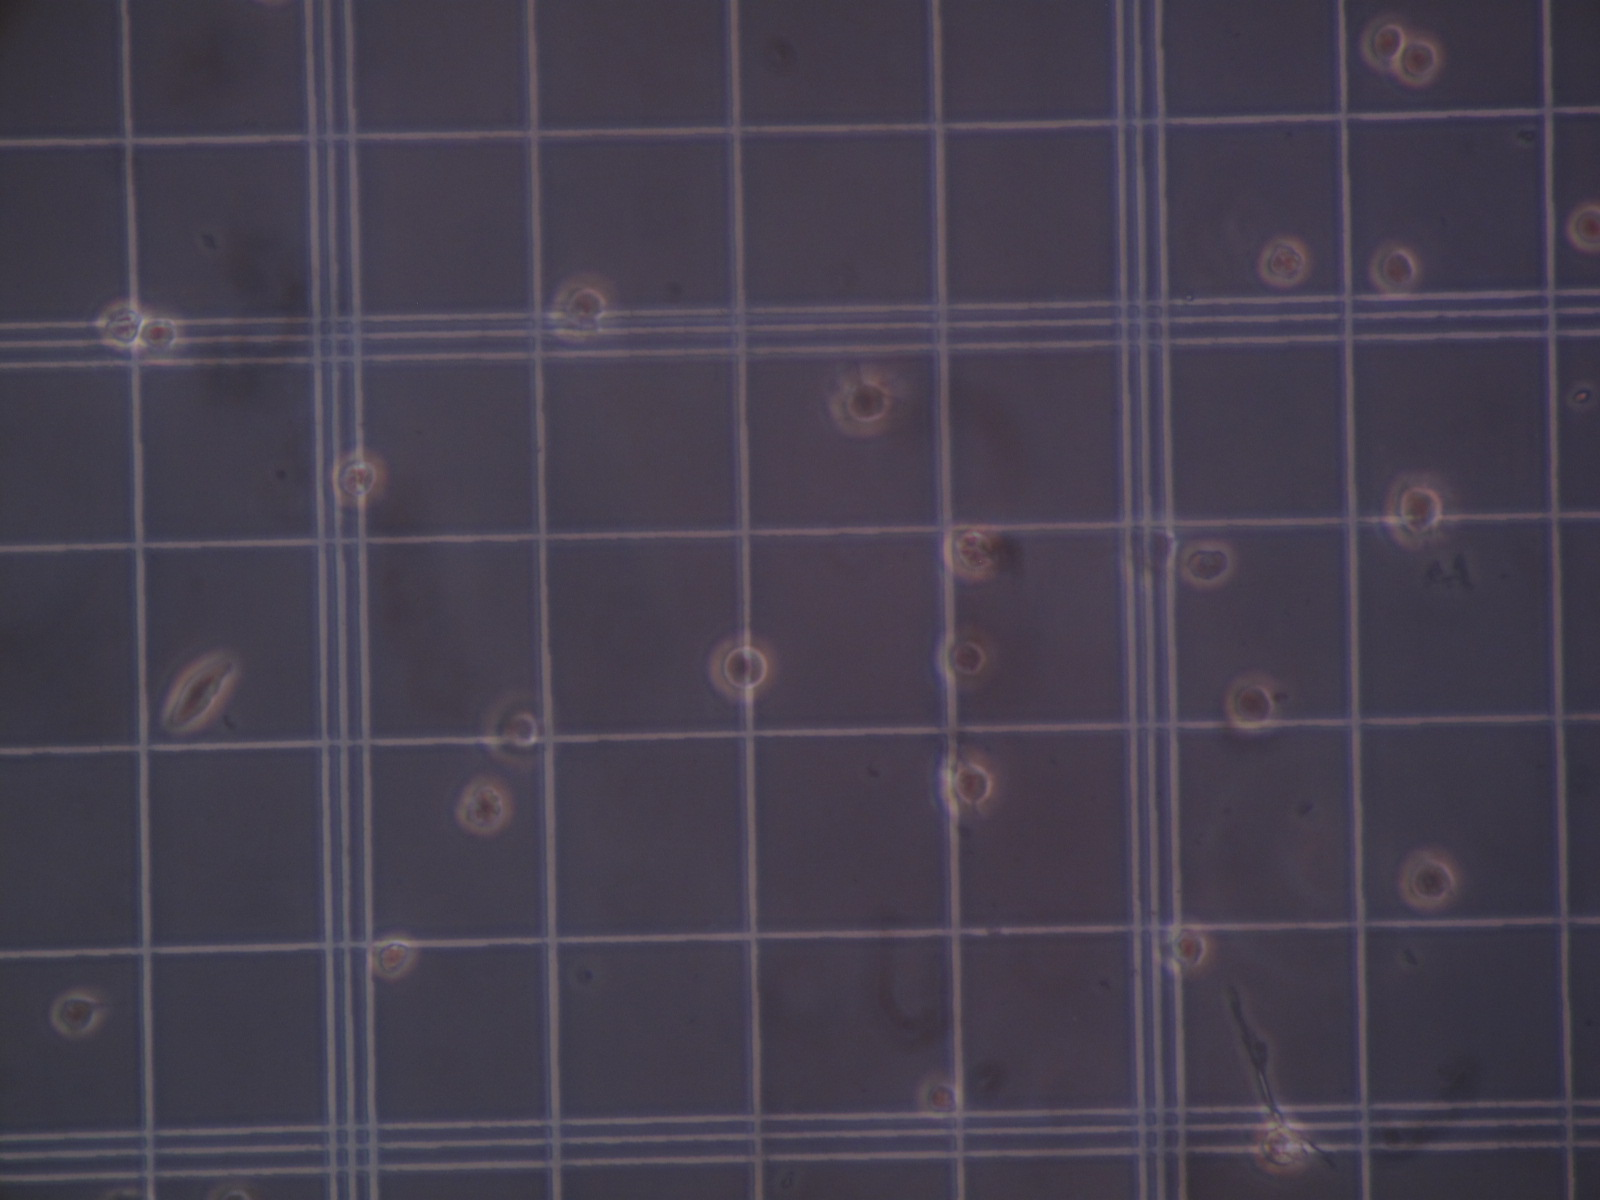hemo: (163, 652, 236, 734), (1383, 470, 1455, 550), (708, 634, 776, 703), (480, 692, 540, 768), (549, 274, 614, 343), (829, 373, 894, 437), (939, 751, 1000, 818), (936, 626, 997, 689), (1398, 848, 1459, 910), (1225, 672, 1280, 734), (455, 775, 511, 834), (944, 522, 999, 581), (331, 449, 387, 507), (1160, 921, 1213, 979), (1368, 242, 1420, 299), (1180, 539, 1235, 589), (1361, 15, 1407, 72), (1259, 236, 1309, 287), (96, 300, 146, 350), (1254, 1123, 1301, 1174), (50, 989, 100, 1037), (1397, 37, 1443, 87), (916, 1074, 963, 1121), (370, 934, 416, 979), (140, 313, 181, 361), (1567, 203, 1600, 252), (205, 1182, 257, 1200)
